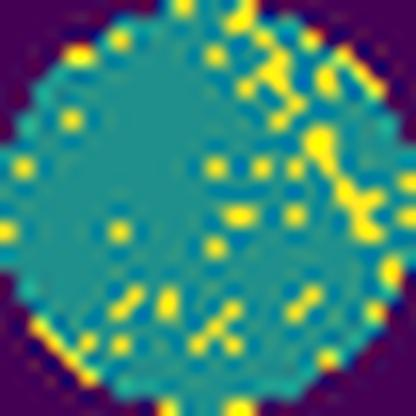Scratch: (298, 126, 392, 254)
